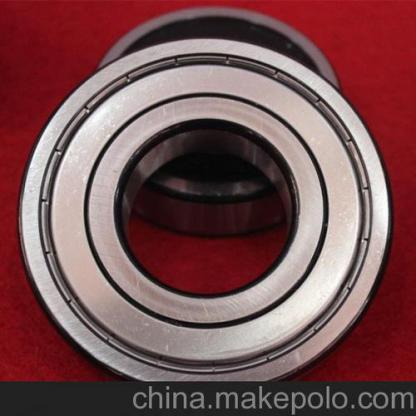FOD: (15, 34, 398, 386), (84, 6, 344, 237)
